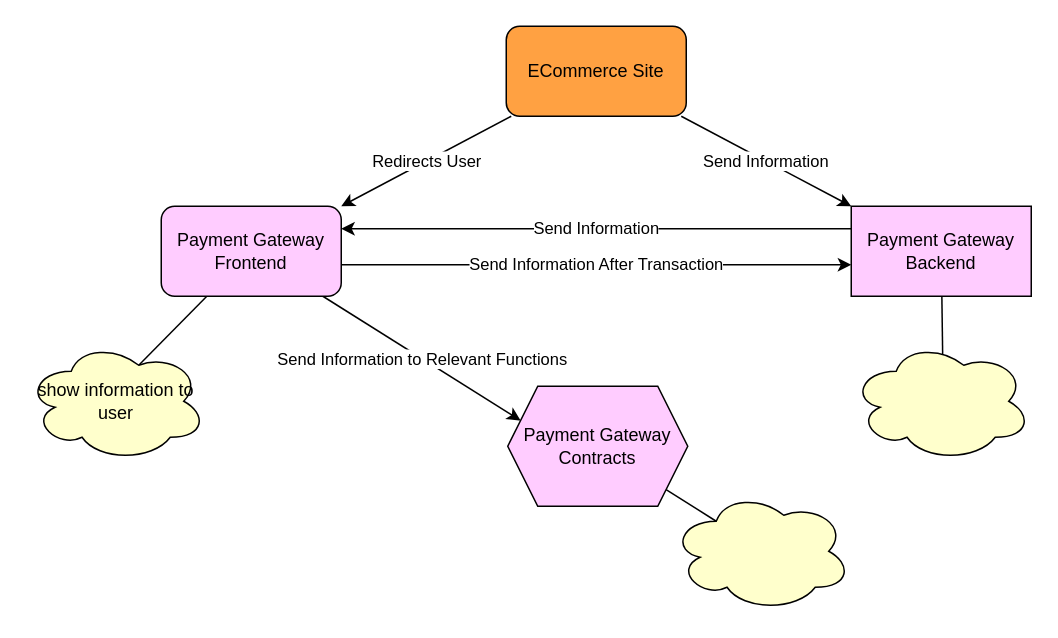
This 1058x638 diagram has some shape labels left out. The box of each missing label's shape, as (x1, y1, x2, y2) in pixels:
do transaction: (670, 490, 851, 611)
send confirmation email: (850, 340, 1031, 461)
